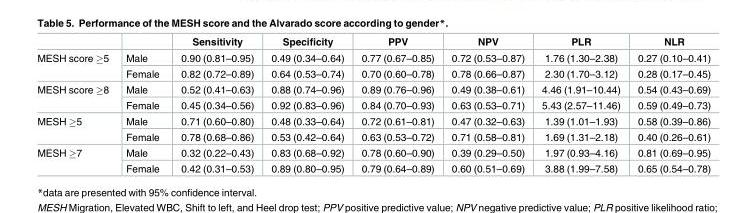table: (36, 36, 710, 173)
table column: (532, 36, 628, 173), (169, 36, 261, 173), (261, 36, 352, 173), (352, 36, 442, 173), (442, 36, 532, 173), (628, 36, 710, 173), (36, 36, 116, 173), (116, 36, 169, 173)
table column header: (36, 36, 710, 50)
table row: (36, 50, 710, 66), (36, 81, 710, 97), (36, 97, 710, 113), (36, 113, 710, 129), (36, 129, 710, 145), (36, 66, 710, 81), (36, 145, 710, 160), (36, 36, 710, 50), (36, 160, 710, 173)
table spanning cell: (36, 81, 116, 113), (36, 113, 116, 145), (36, 50, 116, 81), (36, 145, 116, 173)
